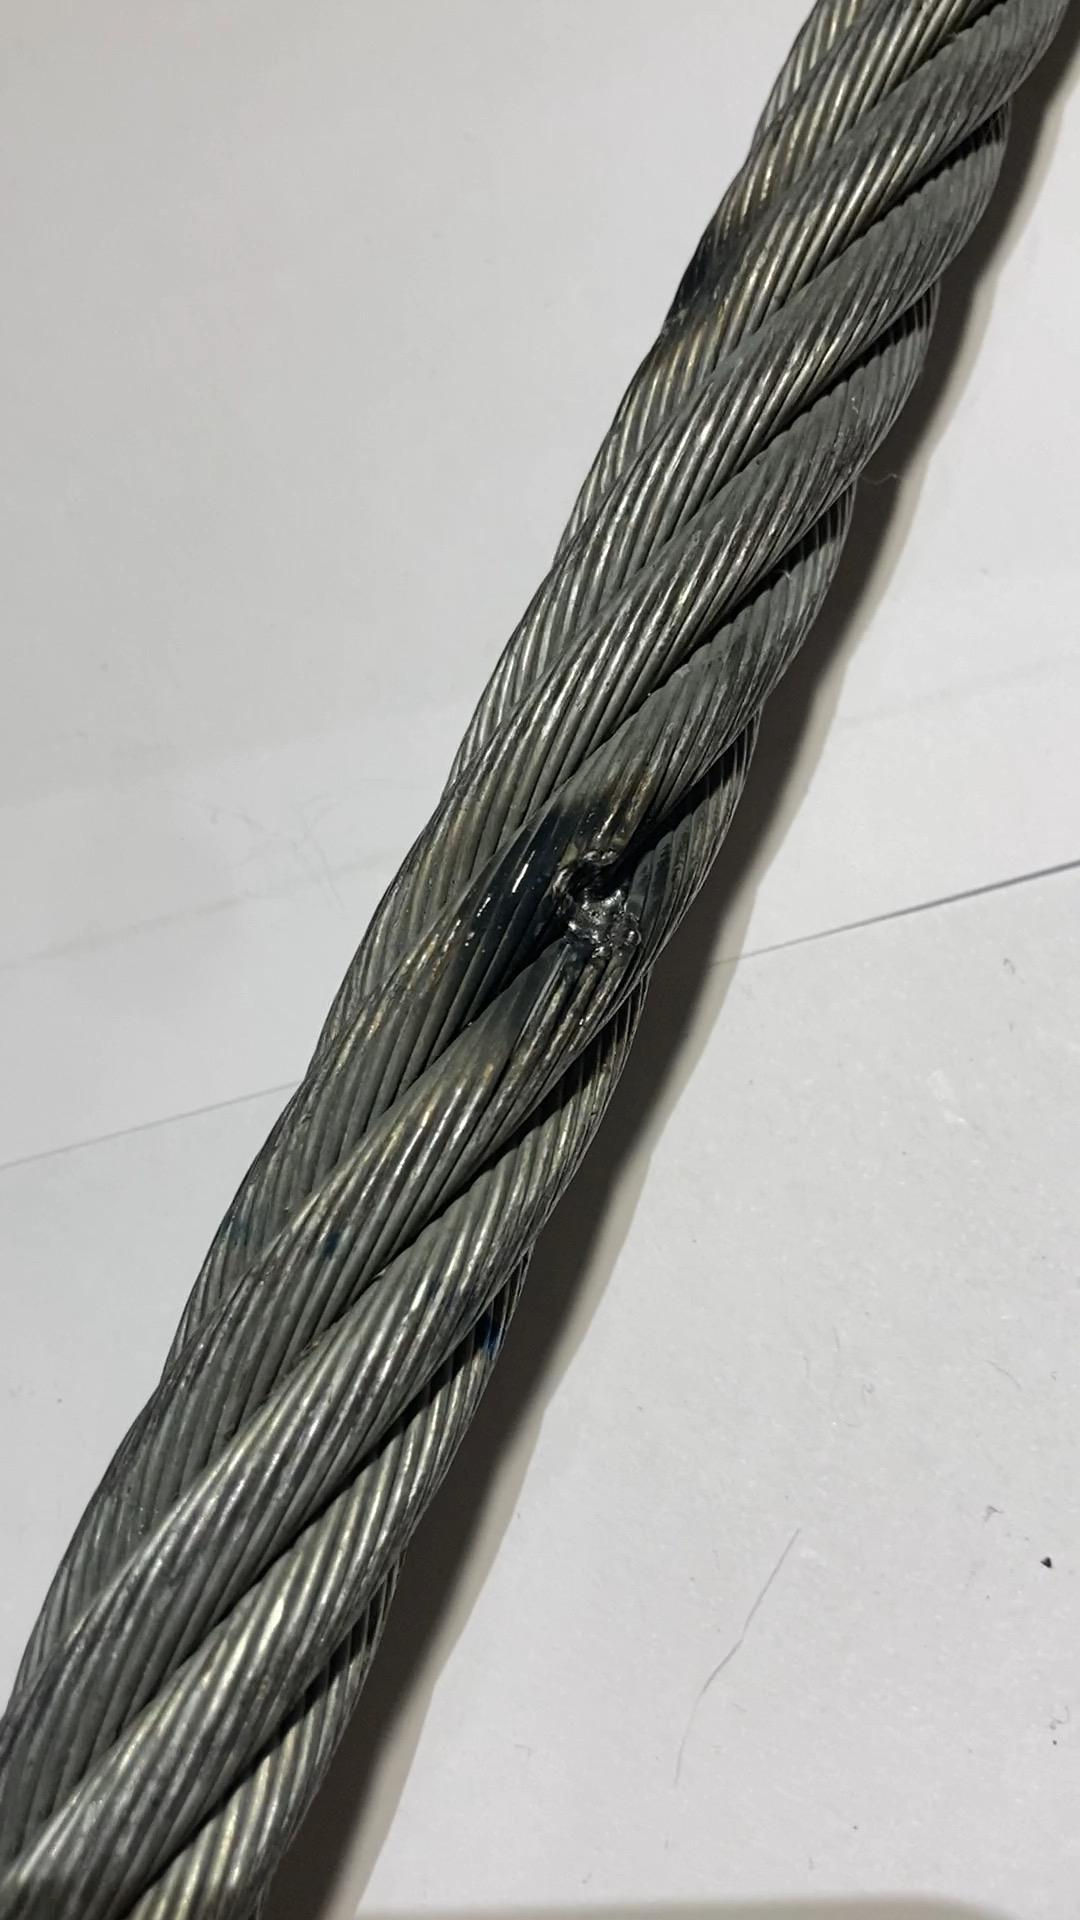thunderbolt: (522, 790, 686, 990)
